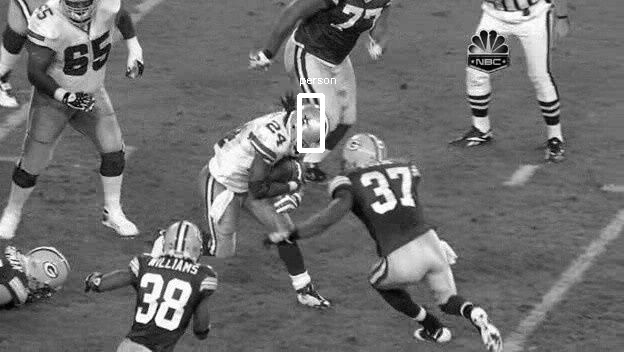person: (289, 110, 323, 154), (288, 110, 322, 154), (290, 110, 324, 154), (289, 109, 323, 153), (289, 111, 323, 155)
target_negative: (407, 120, 527, 320), (90, 127, 270, 186), (415, 244, 528, 292), (106, 193, 142, 221), (505, 320, 511, 344), (620, 21, 621, 125)
